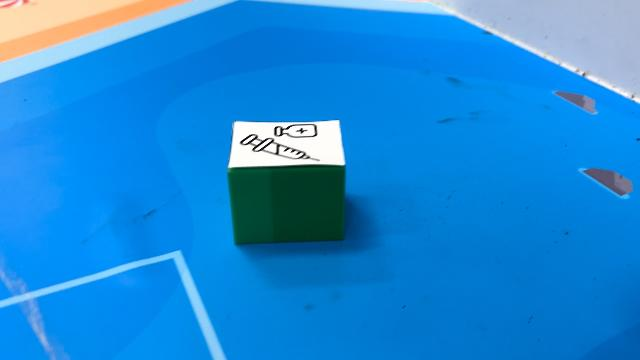syringe: (227, 120, 346, 244)
